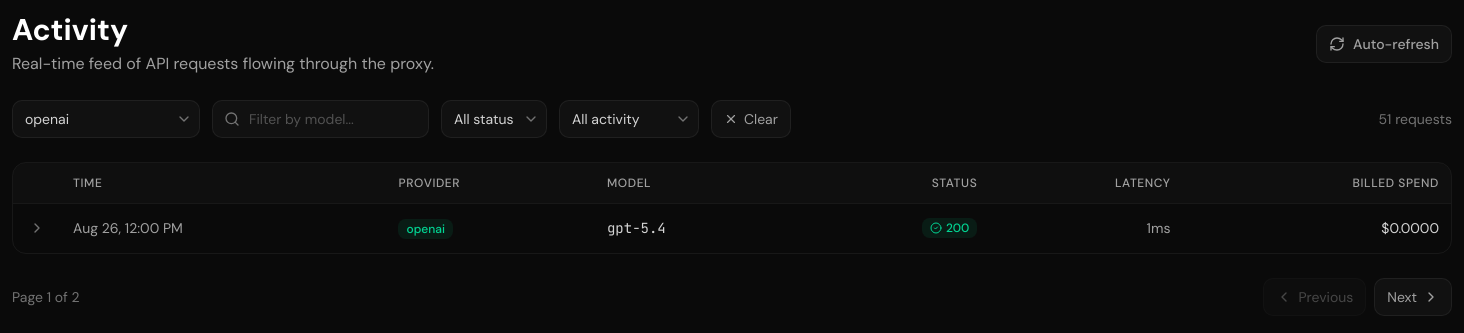
Activity URL filter behavior › clears filters in the URL and resets local pagination to page one
Expected: the text "Page 1 of 2" is shown, [12,286,80,306]
Click the button "Next": (1413, 296) [1374,278,1452,316]
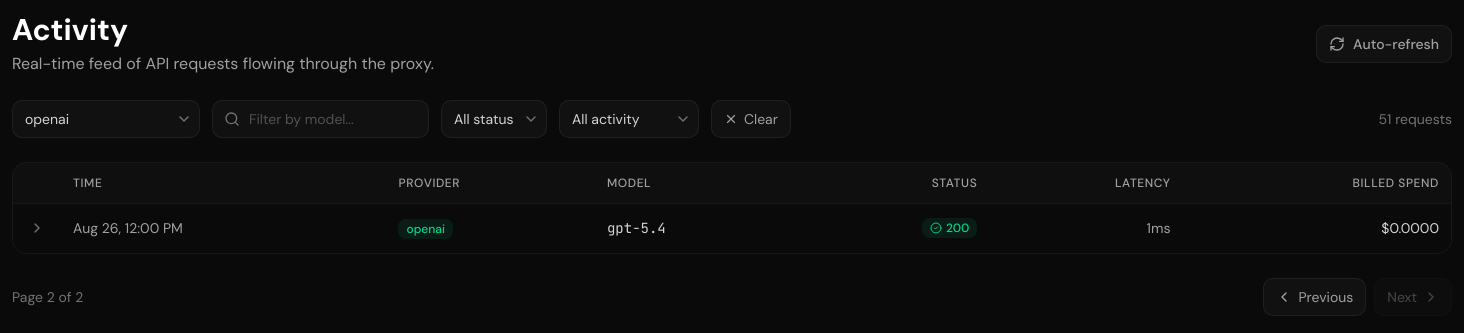
Result: the text "Page 2 of 2" is shown at [12,286,83,306]
Click the button "Clear": (751, 119) [711,100,791,138]
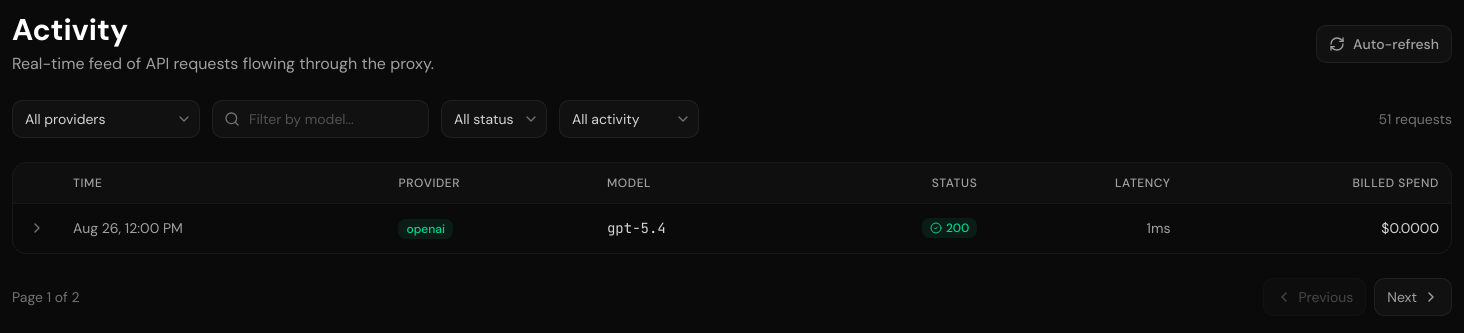
Result: the text "Page 1 of 2" is shown at [12,286,80,306]
